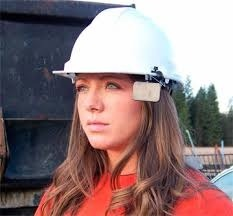helmet: (56, 6, 187, 87)
person with partial safety: (56, 7, 230, 210)
